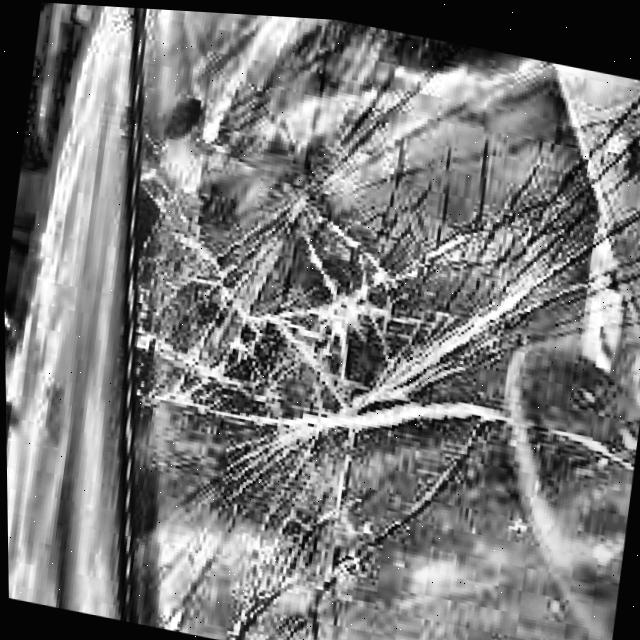glass_shatter: (134, 104, 494, 507)
